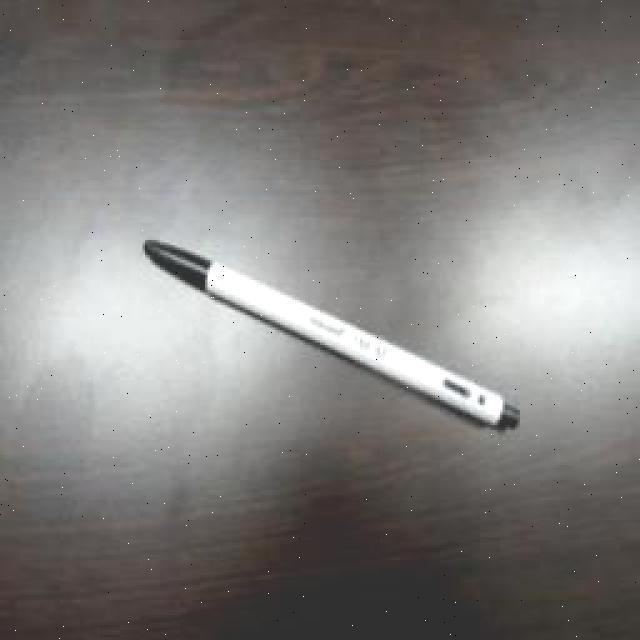pen: (140, 223, 523, 438)
